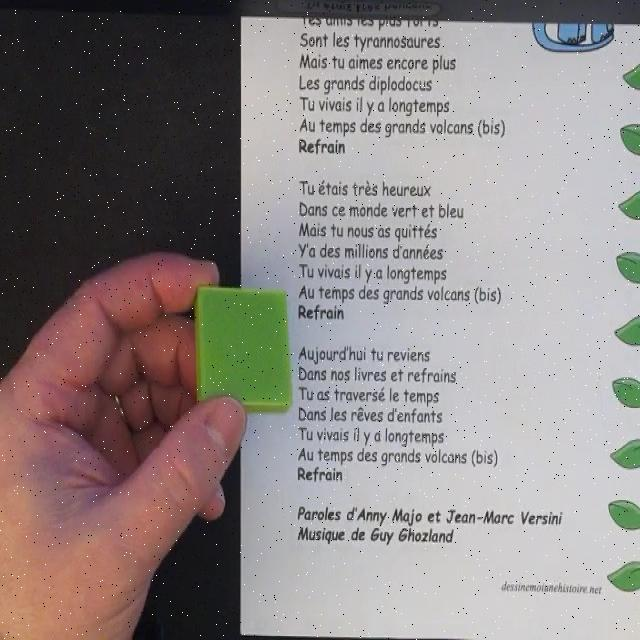square: (196, 286, 293, 414)
